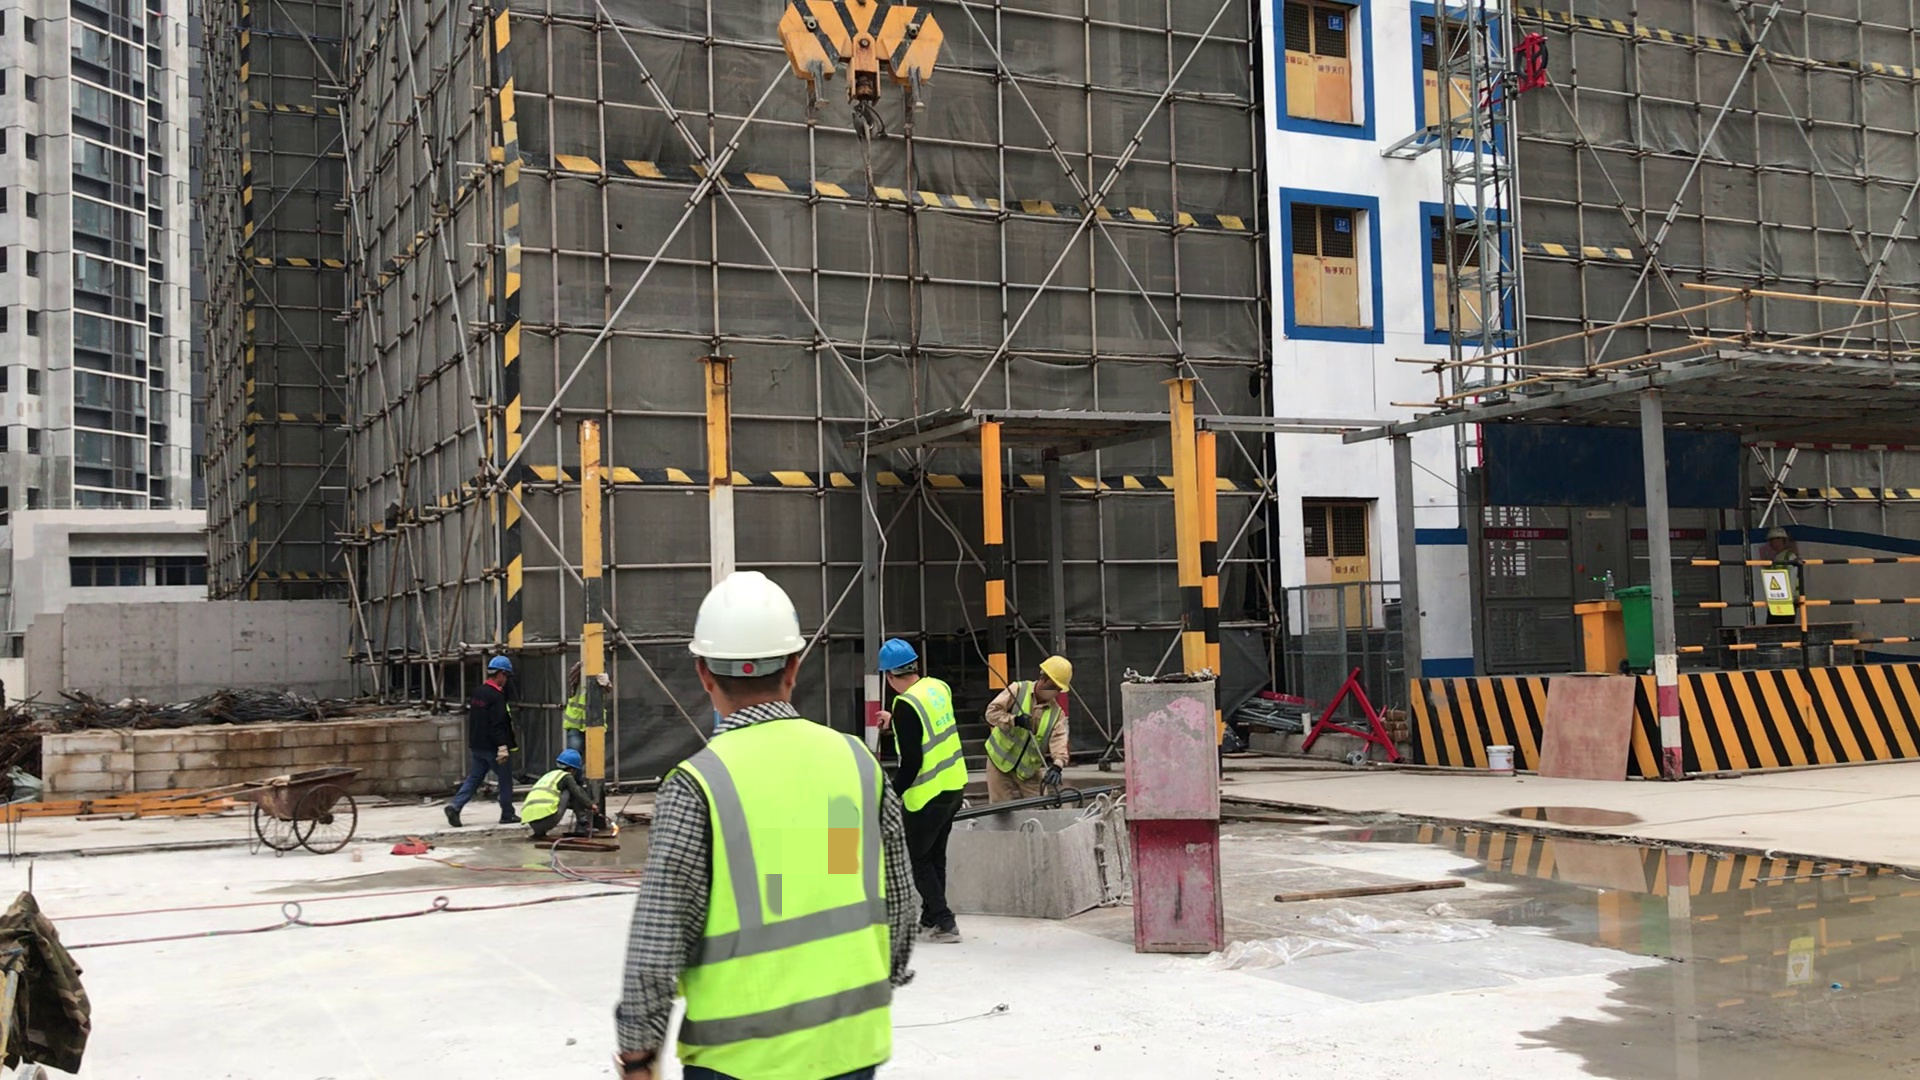helmet: (678, 568, 813, 672), (1027, 641, 1088, 712), (874, 630, 923, 681), (559, 735, 594, 784), (481, 641, 516, 681), (1762, 516, 1800, 547)
person: (586, 561, 925, 1080), (869, 631, 989, 946), (978, 623, 1094, 822), (439, 633, 524, 839), (511, 731, 611, 854), (1754, 522, 1822, 636), (558, 643, 624, 756)
vest: (662, 711, 920, 1080), (867, 673, 976, 824), (984, 680, 1078, 804), (517, 765, 583, 842), (464, 674, 525, 755), (552, 662, 612, 734), (1765, 549, 1801, 620)
